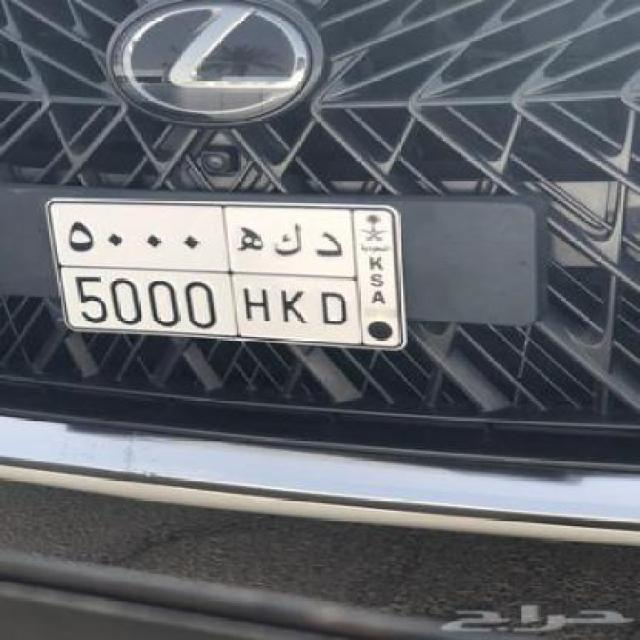license_plate: (43, 195, 411, 352)
